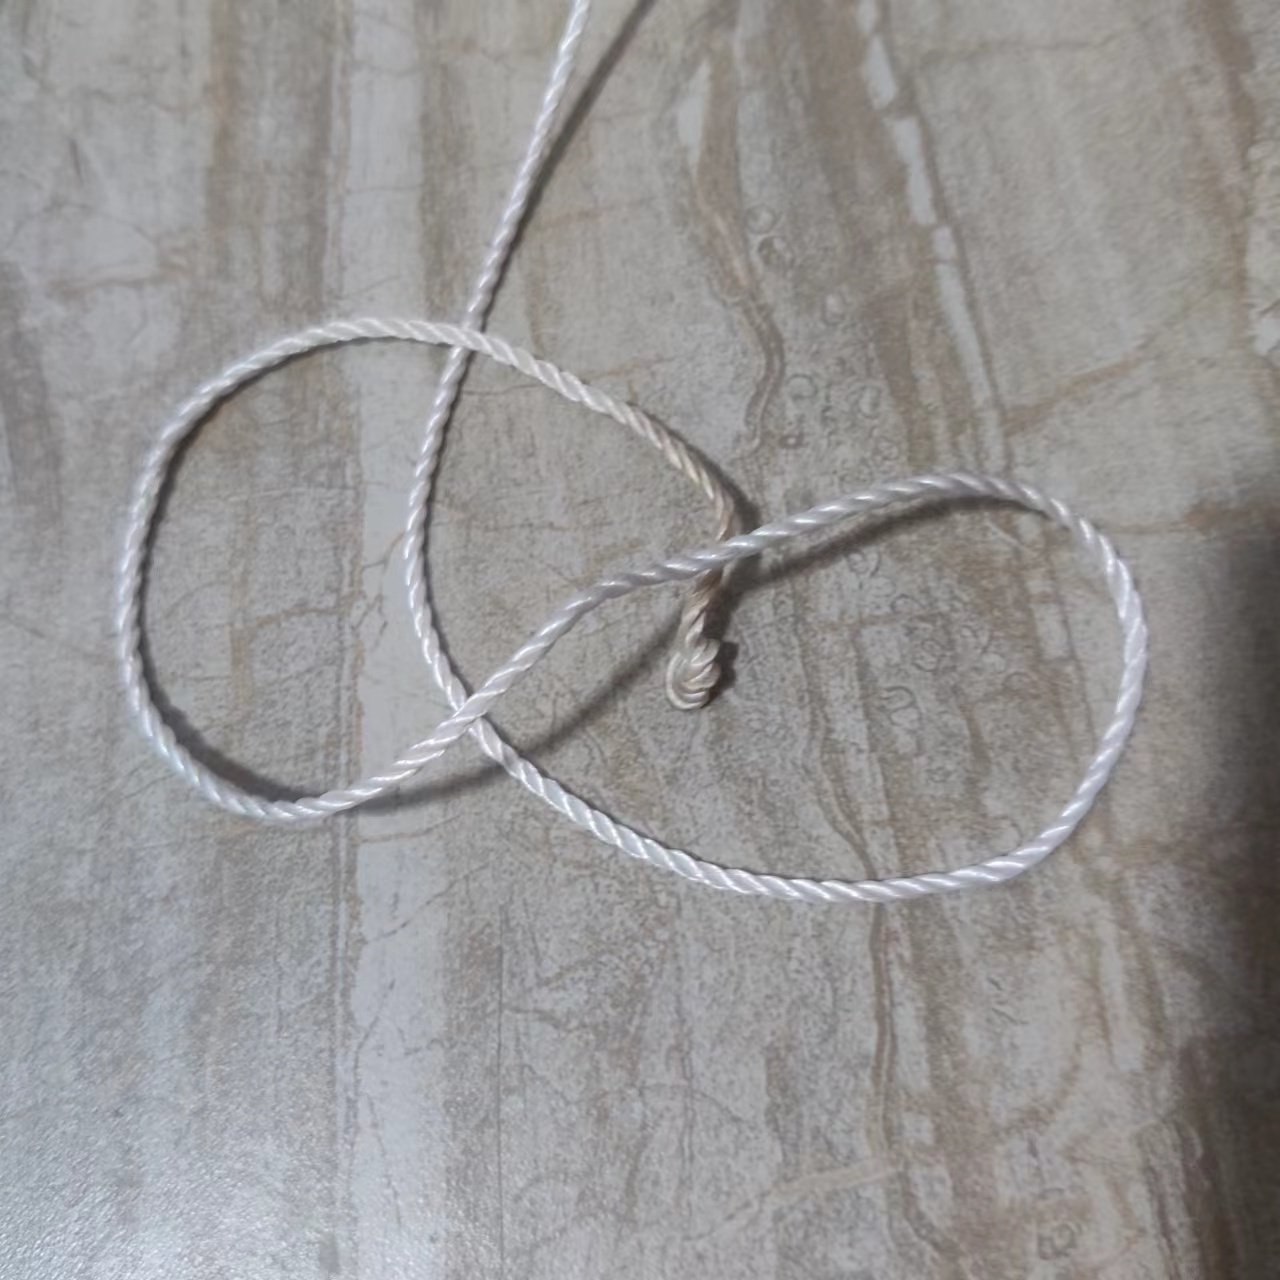9/可回收垃圾/绳子: (114, 1, 1150, 905)
